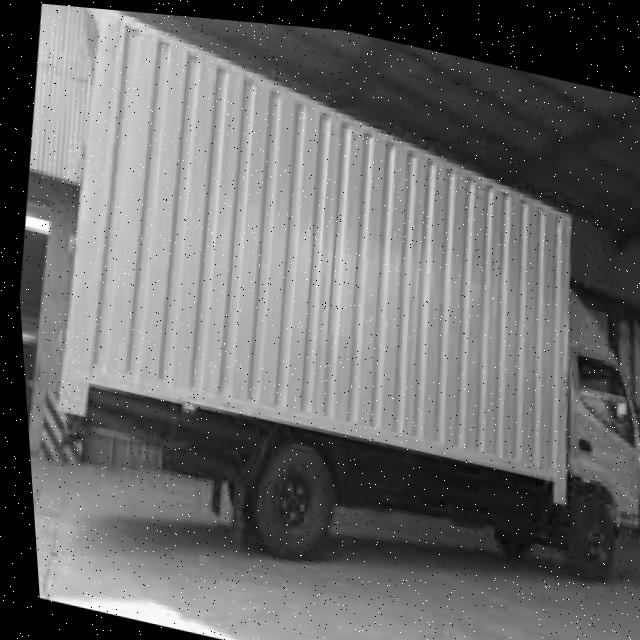truck: (506, 254, 640, 592)
